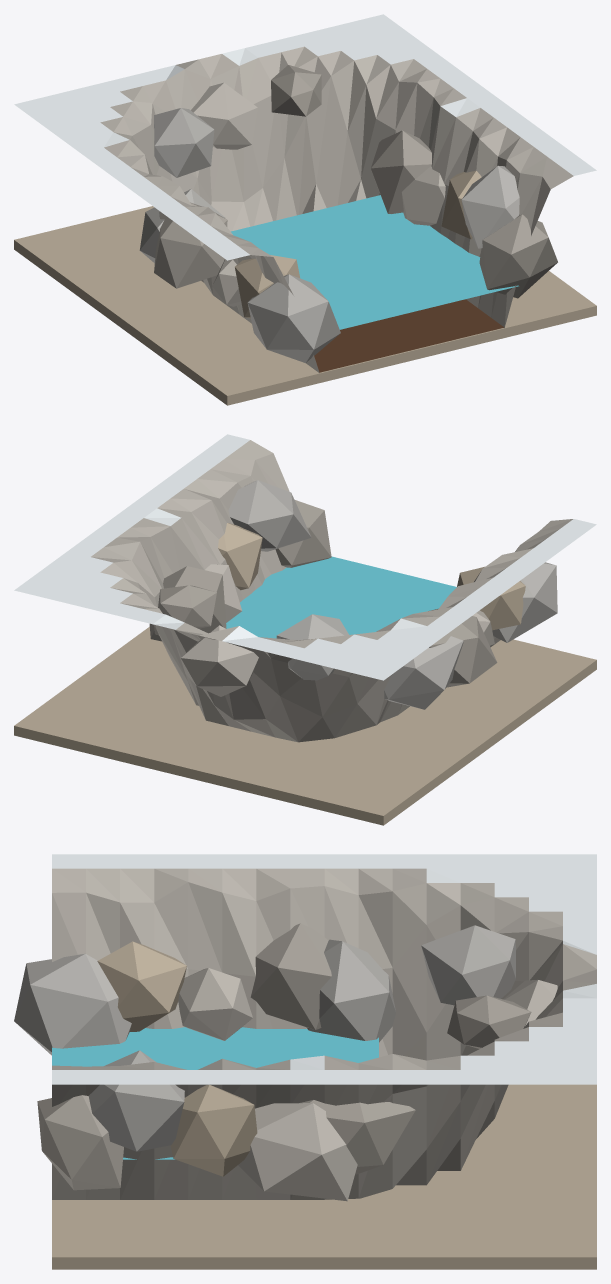
Rendered from stream_end.glb.
The picture shows the model from 3 angles, top to bottom: view 1: azimuth 30°, elevation 25°; view 2: azimuth 150°, elevation 25°; view 3: azimuth 270°, elevation 25°; orthographic projection. The views are drawn at different scales.
Visible parts, largest first — view 1: stream_end, part_flow; view 2: stream_end, part_flow; view 3: stream_end, part_flow.
Part boxes in pixels (<box>): stream_end: <box>14,14,596,405</box>; part_flow: <box>231,195,518,329</box>; stream_end: <box>14,434,596,825</box>; part_flow: <box>226,556,456,638</box>; stream_end: <box>14,854,596,1269</box>; part_flow: <box>52,1027,378,1159</box>.
Bounding box in the file's own units: 2 × 0.784 × 2.14.
